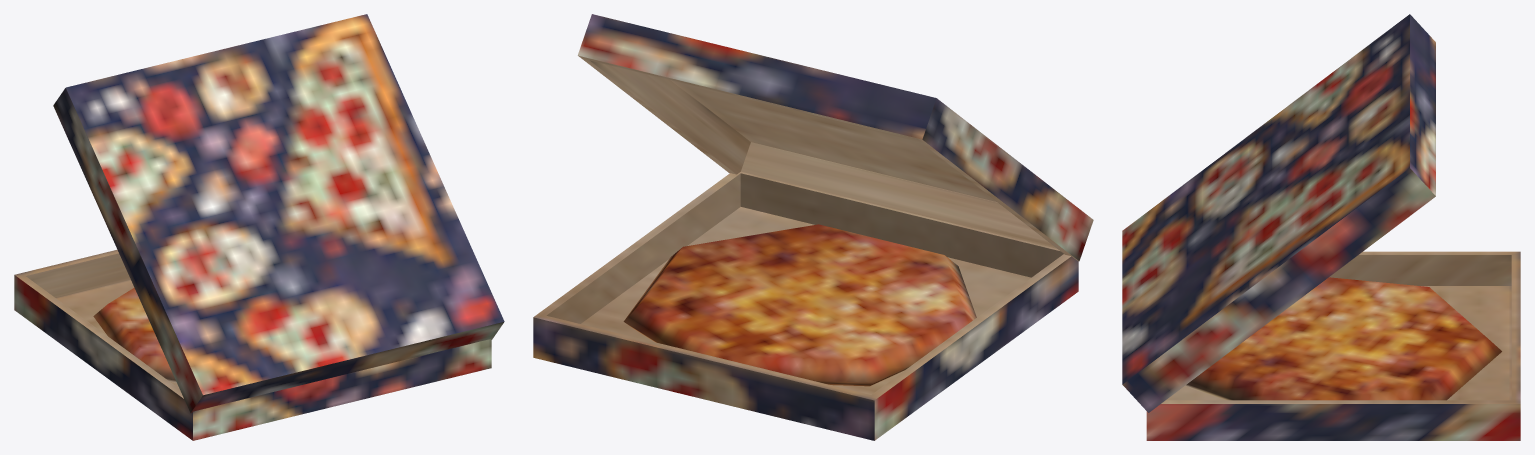
The model's file is ps1_pizza.glb.
3 renders of one model, left to right at view 1: azimuth 30°, elevation 25°; view 2: azimuth 150°, elevation 25°; view 3: azimuth 270°, elevation 25°, orthographic. The views are drawn at different scales.
Visible parts, largest first — view 1: Cube.001_1, Cylinder_0; view 2: Cube.001_1, Cylinder_0; view 3: Cube.001_1, Cylinder_0.
Boxes of the visible parts, bbox=[...] form: Cube.001_1: bbox=[14, 14, 504, 440]; Cylinder_0: bbox=[93, 287, 176, 382]; Cube.001_1: bbox=[533, 14, 1093, 440]; Cylinder_0: bbox=[623, 224, 976, 386]; Cube.001_1: bbox=[1122, 14, 1520, 440]; Cylinder_0: bbox=[1186, 277, 1501, 400].
Bounding box in the file's own units: 3.39 × 2.81 × 3.71.
Materials: 2 (2 with a texture image).
